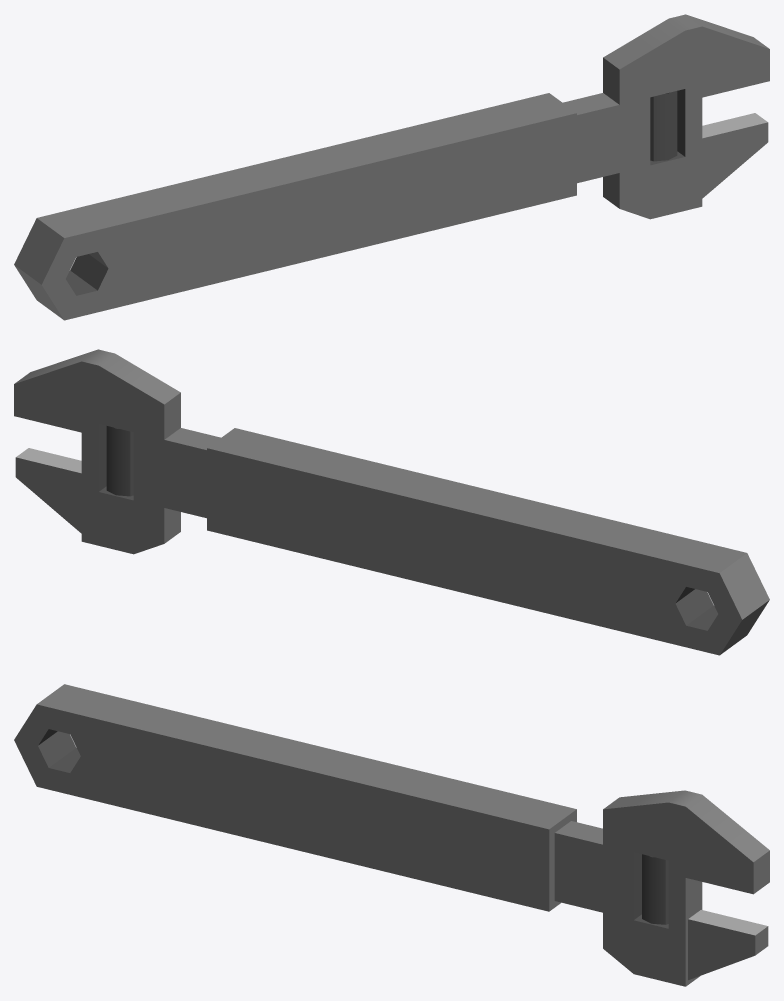
File: MonkeyWrench.fbx
3 renders of one model, top to bottom at view 1: azimuth 30°, elevation 25°; view 2: azimuth 150°, elevation 25°; view 3: azimuth 330°, elevation 25°, orthographic.
Visible parts, largest first — view 1: MonkeyWrench; view 2: MonkeyWrench; view 3: MonkeyWrench.
Boxes of the visible parts, x1,y1,x2,y2 form: MonkeyWrench: (14, 14, 769, 320); MonkeyWrench: (14, 349, 769, 655); MonkeyWrench: (14, 684, 769, 986).
Bounding box in the file's own units: 97.62 × 22.9 × 6.37.
